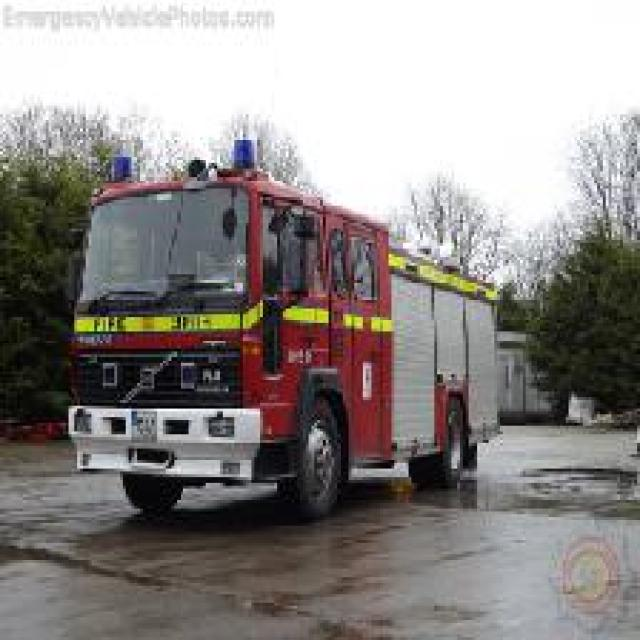Fire-truck: (63, 134, 503, 520)
